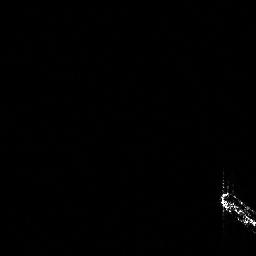ship: (216, 180, 256, 237)
